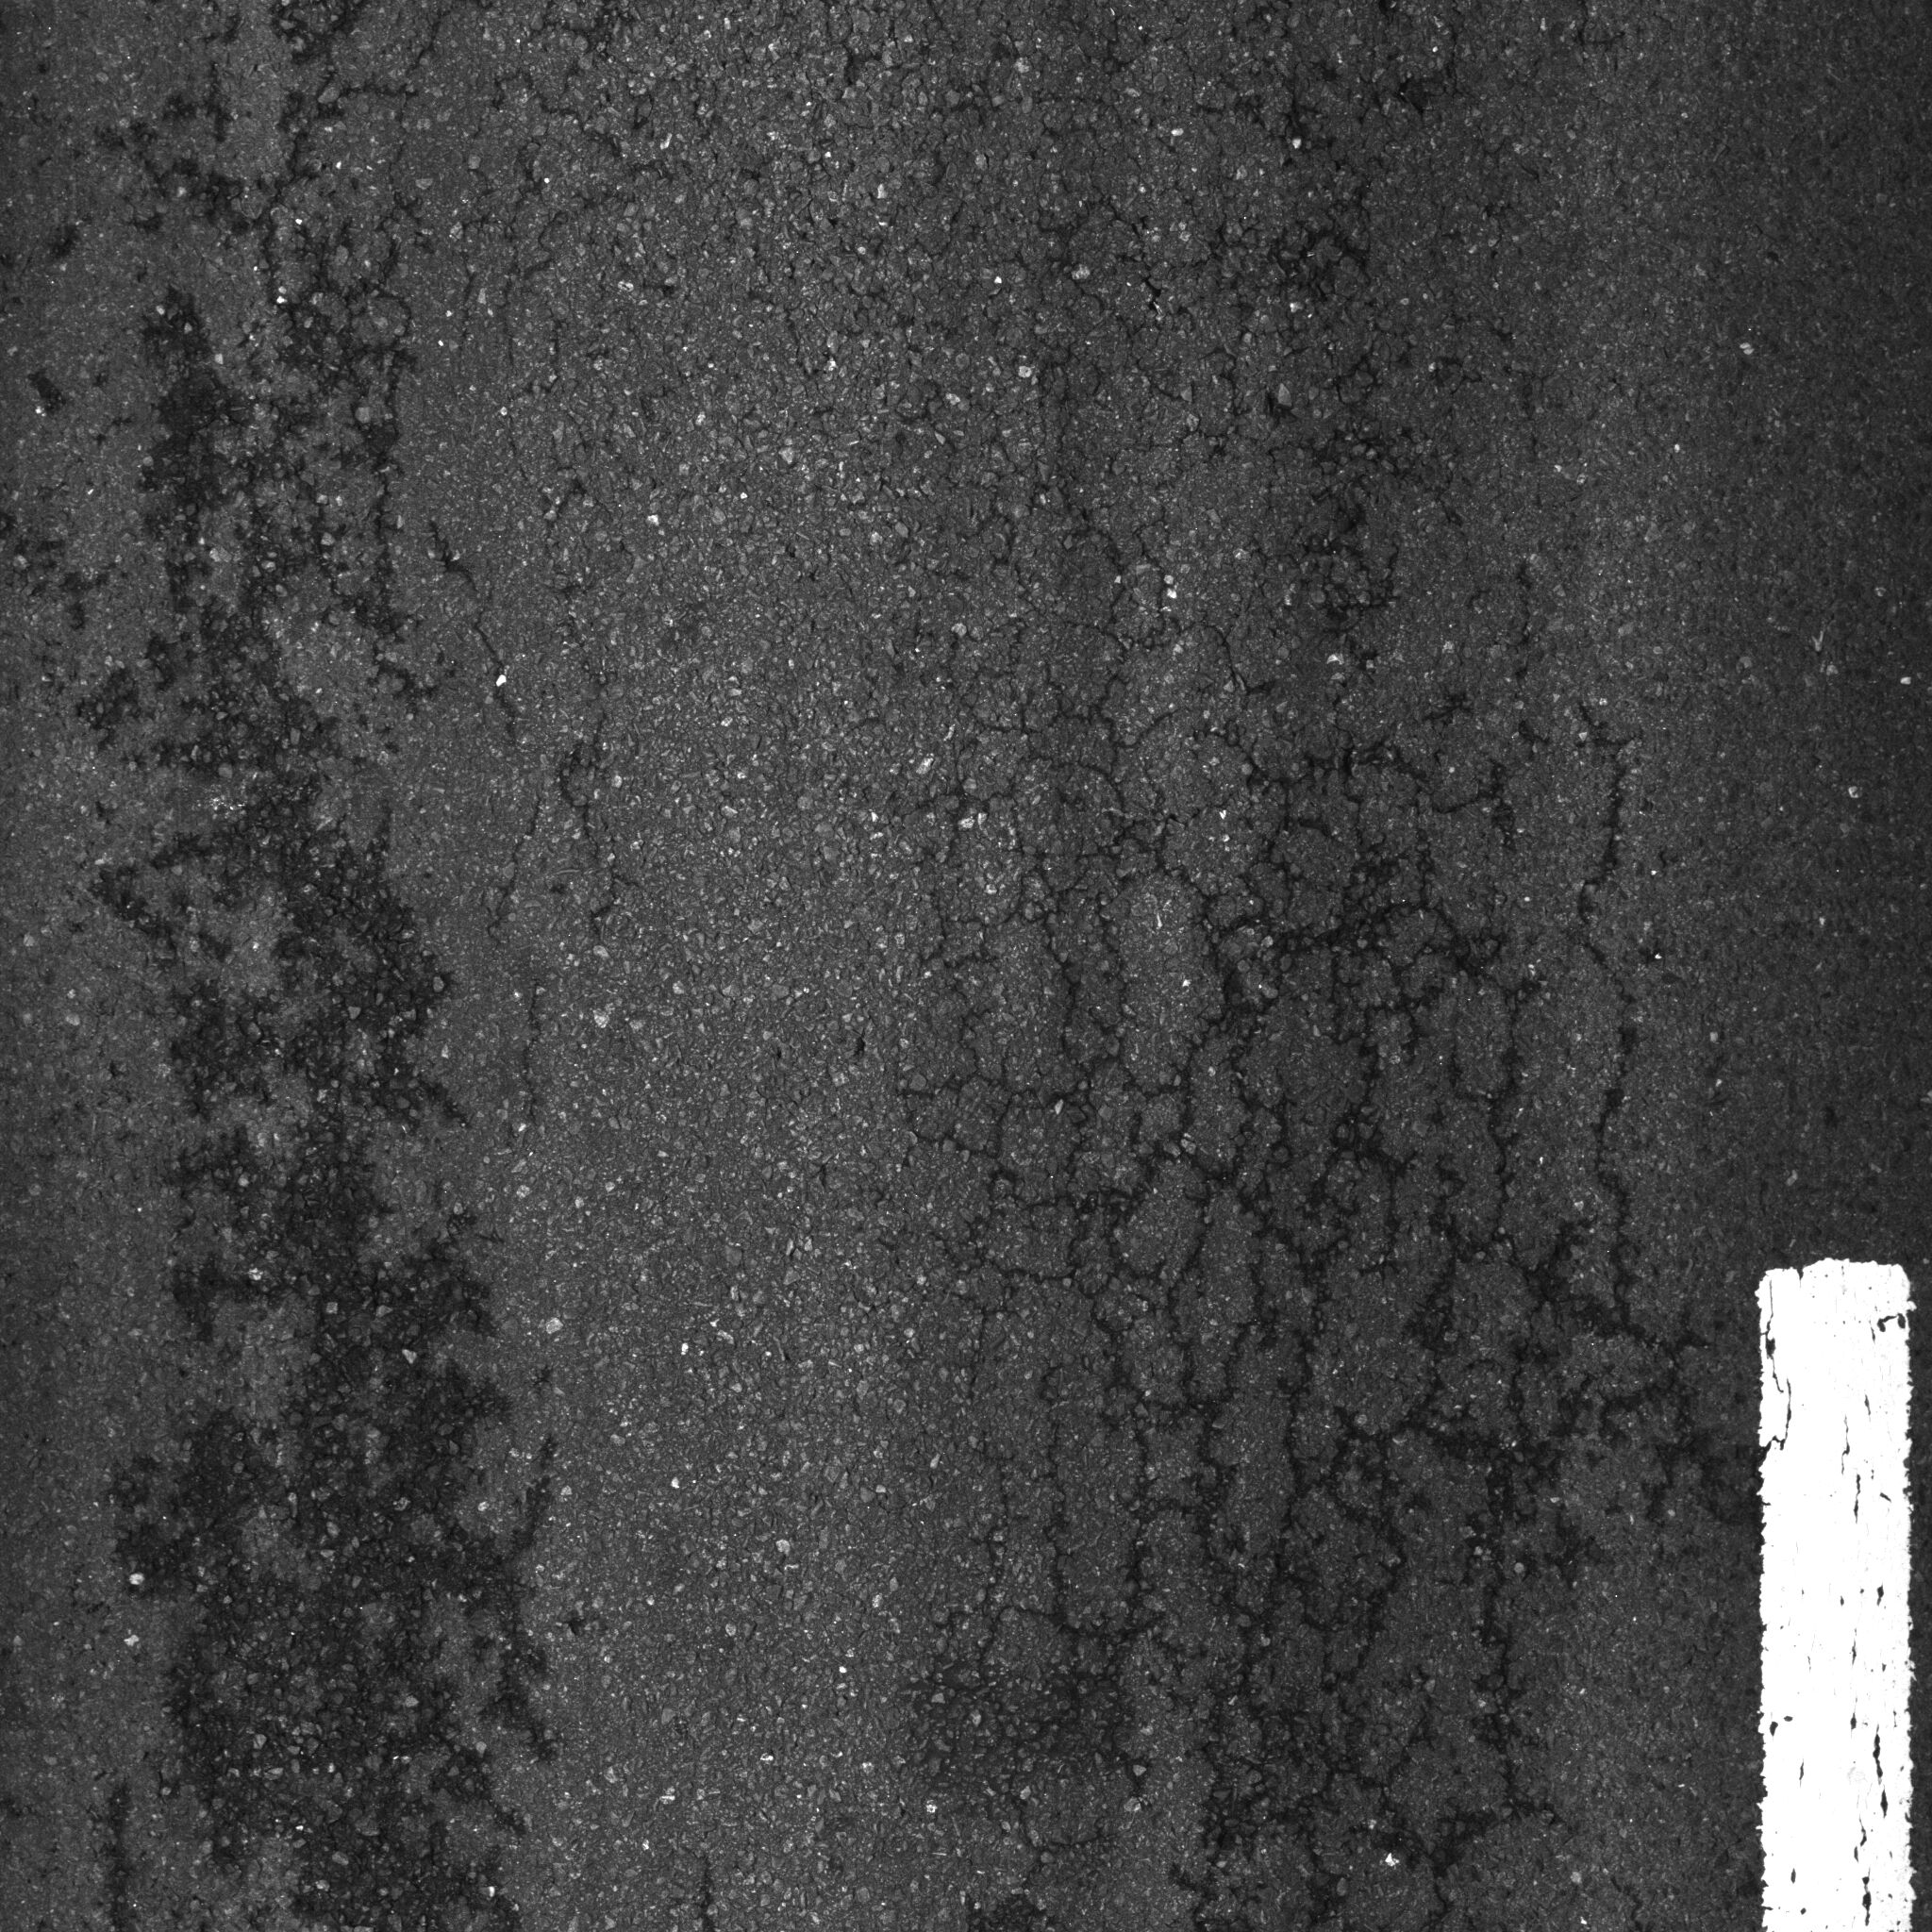alligator: (51, 14, 1748, 1923)
